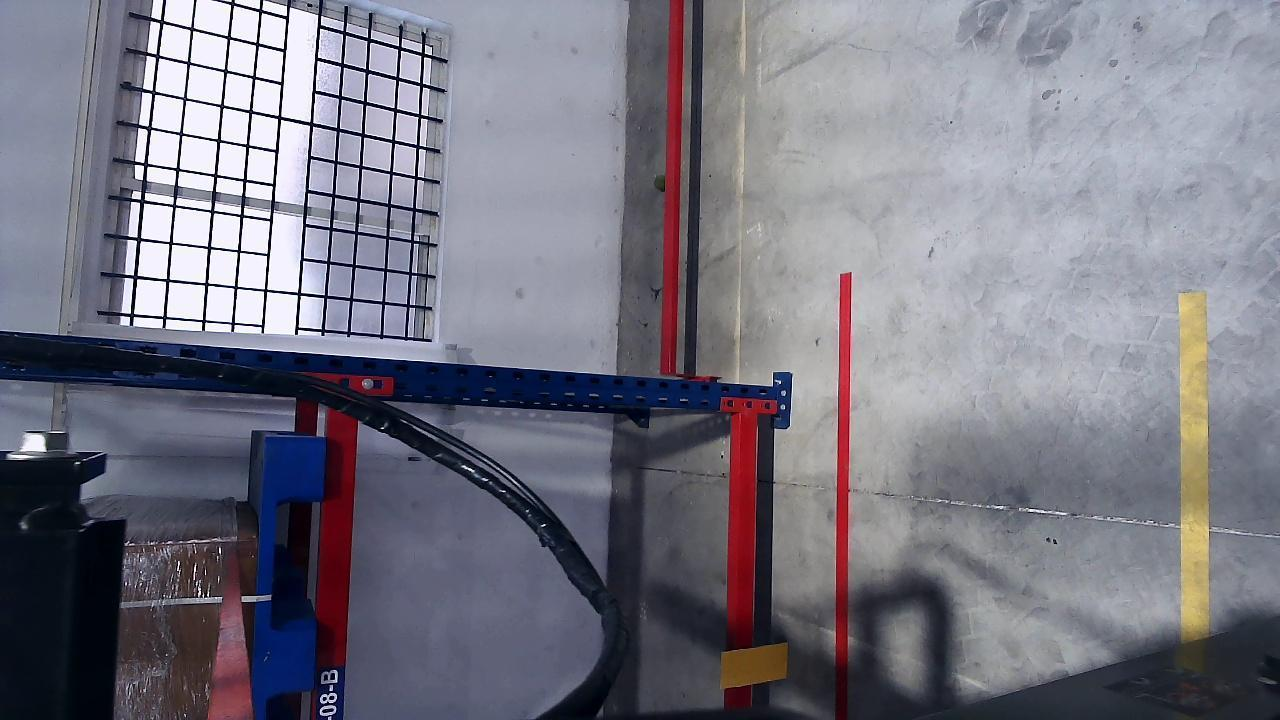red_line: (835, 269, 850, 720)
yellow_line: (1177, 290, 1210, 640)
